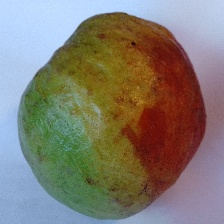guava: (26, 19, 180, 194)
